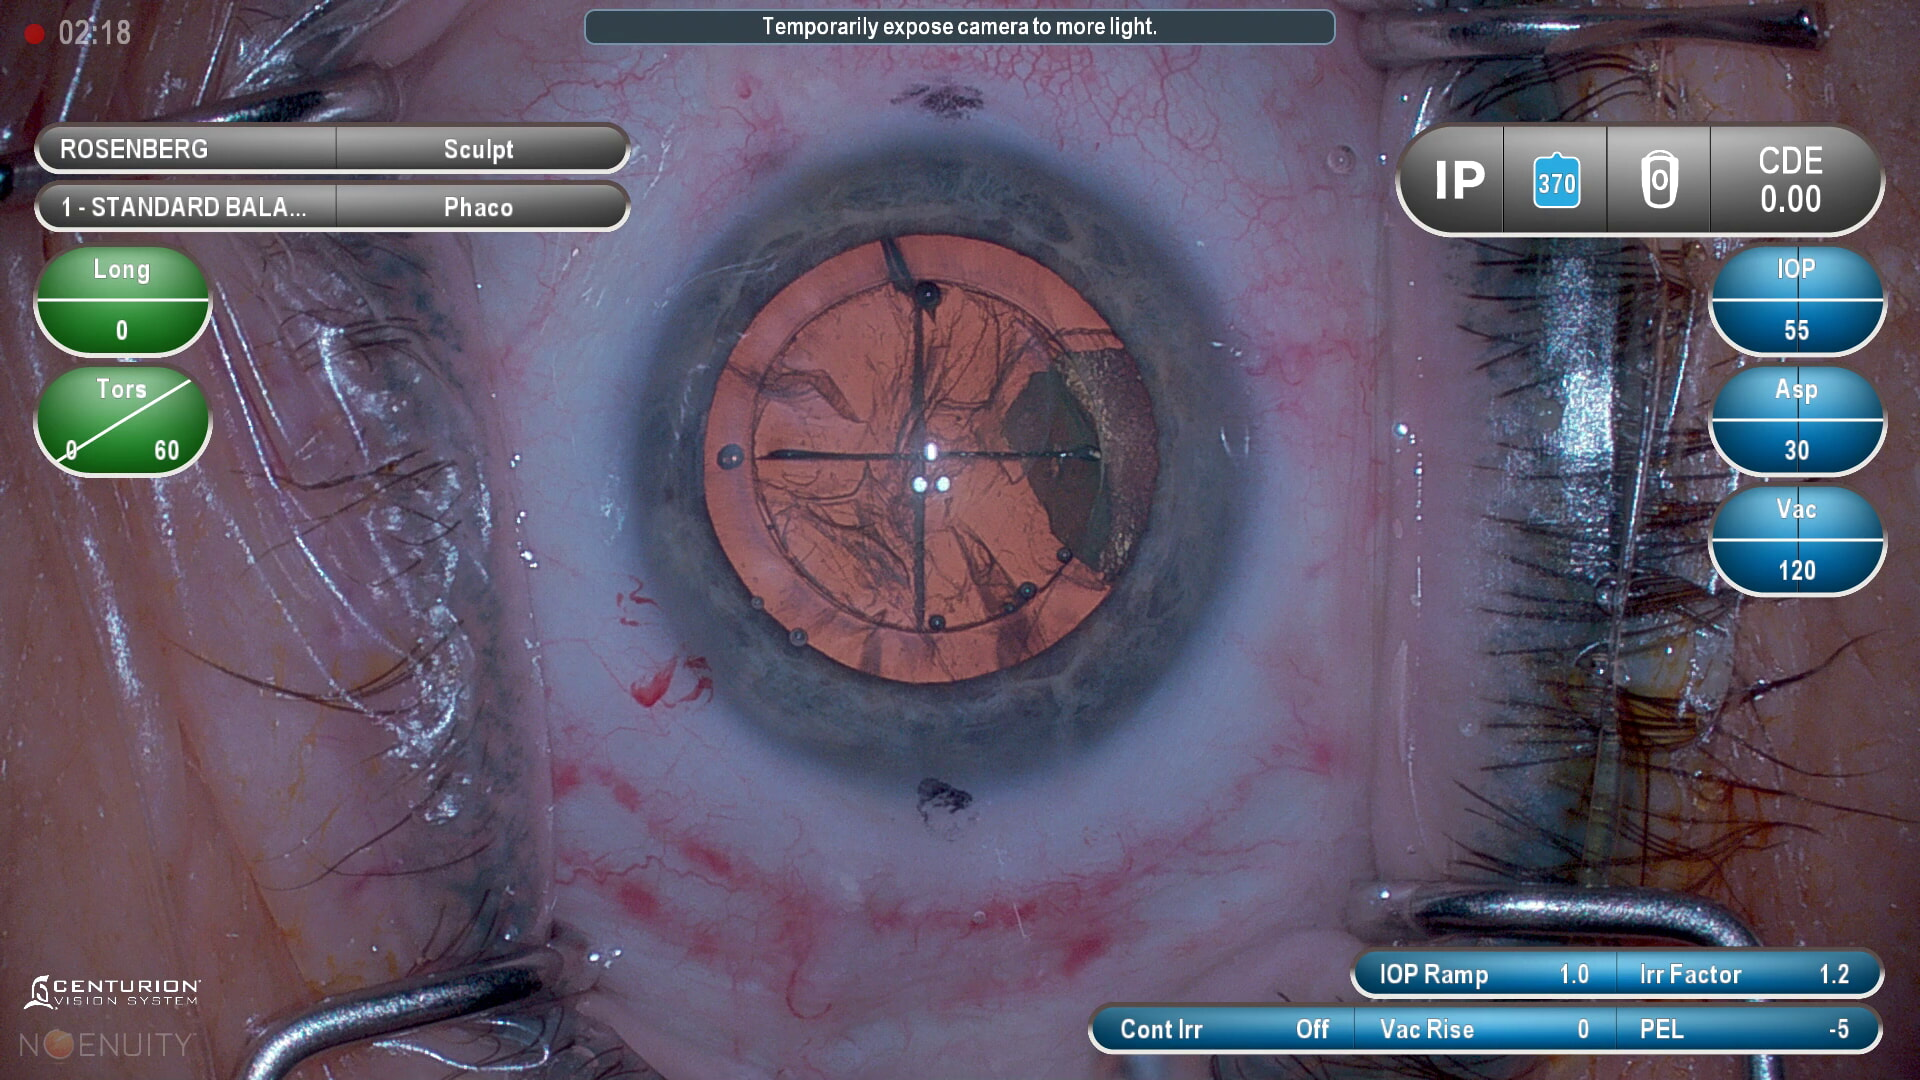iris: (638, 143, 1245, 777)
pupil: (699, 233, 1166, 689)
